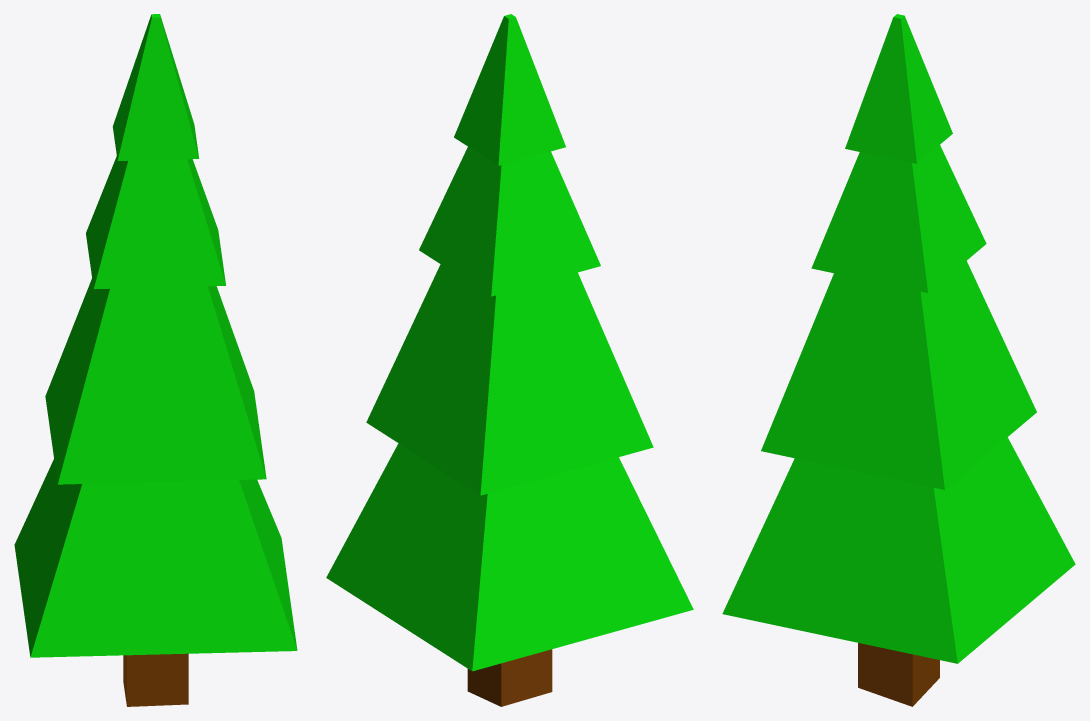
Rendered from jelka 2.fbx.
The picture shows the model from 3 angles, left to right: view 1: azimuth 30°, elevation 25°; view 2: azimuth 150°, elevation 25°; view 3: azimuth 270°, elevation 25°; orthographic projection.
Parts seen in each view (by area): view 1: Cube.003; view 2: Cube.003; view 3: Cube.003.
Boxes of the visible parts, box(x1,y1,x2,y2) form: Cube.003: box(14, 14, 297, 706); Cube.003: box(326, 14, 693, 706); Cube.003: box(722, 14, 1075, 706).
Size of the model in its own units: 461 by 970 by 461.
